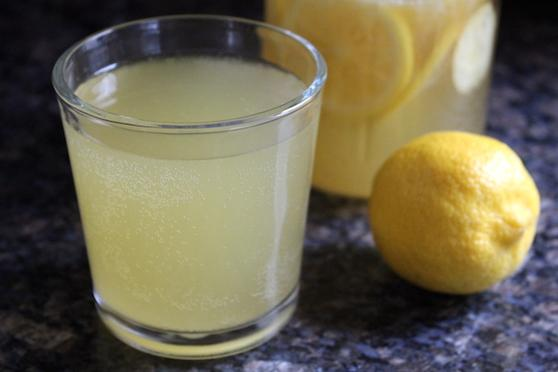lemon: (371, 127, 536, 295)
